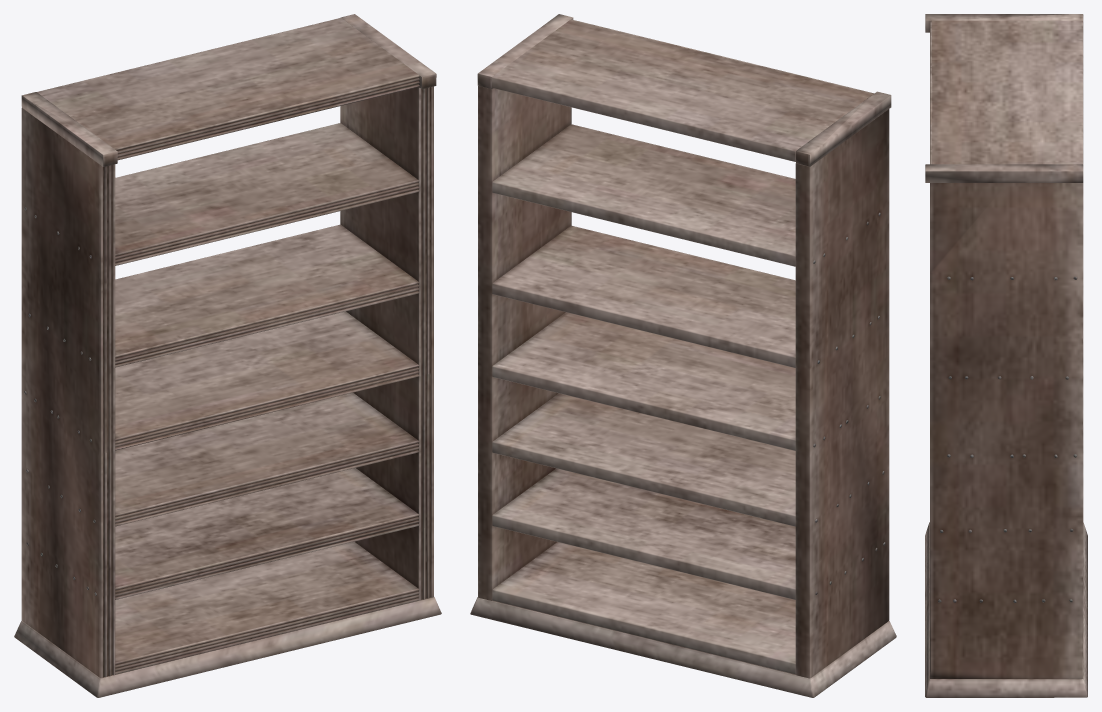
Rendered from wooden_bookshelf_worn.glb.
3 views of the same model, side by side, from view 1: azimuth 30°, elevation 25°; view 2: azimuth 150°, elevation 25°; view 3: azimuth 270°, elevation 25° (orthographic). The views are drawn at different scales.
Parts seen in each view (by area): view 1: wooden_bookshelf_worn; view 2: wooden_bookshelf_worn; view 3: wooden_bookshelf_worn.
Boxes of the visible parts, x1,y1,x2,y2 form: wooden_bookshelf_worn: [14, 14, 441, 697]; wooden_bookshelf_worn: [470, 14, 896, 697]; wooden_bookshelf_worn: [925, 14, 1087, 697].
Bounding box in the file's own units: 1.37 × 2.06 × 0.5813.
1 material, 1 textured.
